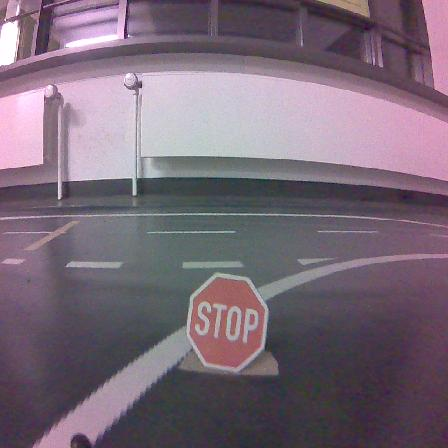STOP: (187, 273, 268, 371)
